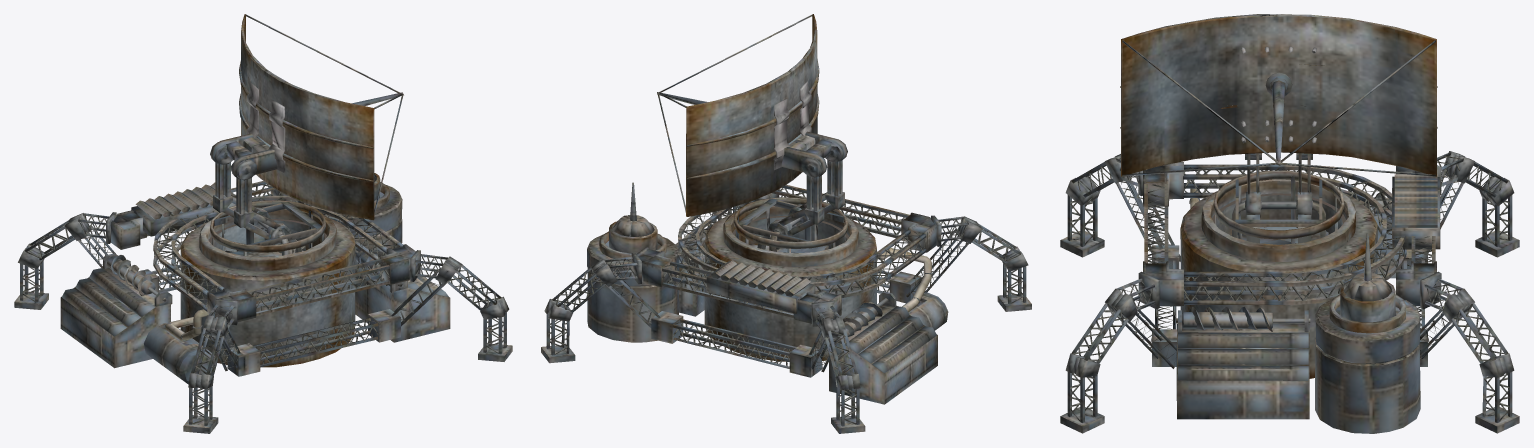
File: radar.glb
The picture shows the model from 3 angles, left to right: view 1: azimuth 30°, elevation 25°; view 2: azimuth 150°, elevation 25°; view 3: azimuth 270°, elevation 25°; orthographic projection. The views are drawn at different scales.
Parts seen in each view (by area): view 1: body, anim_spin_radar; view 2: body, anim_spin_radar; view 3: body, anim_spin_radar.
Boxes of the visible parts, x1=… form: body: x1=14, y1=173, x2=512, y2=433; anim_spin_radar: x1=210, y1=14, x2=403, y2=256; body: x1=541, y1=182, x2=1031, y2=433; anim_spin_radar: x1=657, y1=14, x2=847, y2=253; body: x1=1060, y1=151, x2=1519, y2=433; anim_spin_radar: x1=1120, y1=14, x2=1437, y2=244.
Bounding box in the file's own units: 2.99 × 2.27 × 2.94.
1 material, 1 textured.
